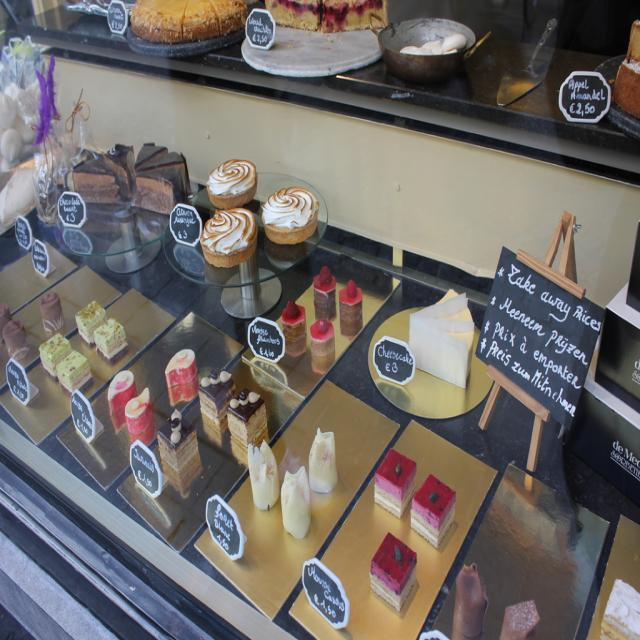Cheese: (406, 286, 476, 388)
